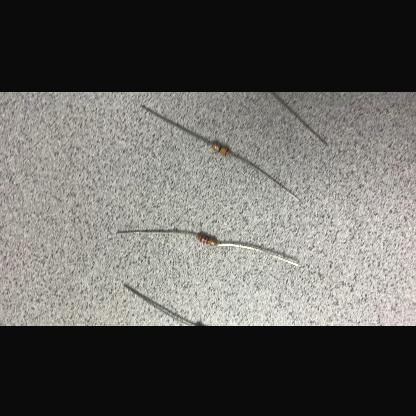resistor: (198, 233, 218, 244), (212, 142, 230, 154)
wire: (232, 152, 300, 200), (124, 283, 198, 325), (272, 91, 328, 145), (140, 104, 212, 144), (218, 243, 298, 266), (117, 230, 197, 236)
